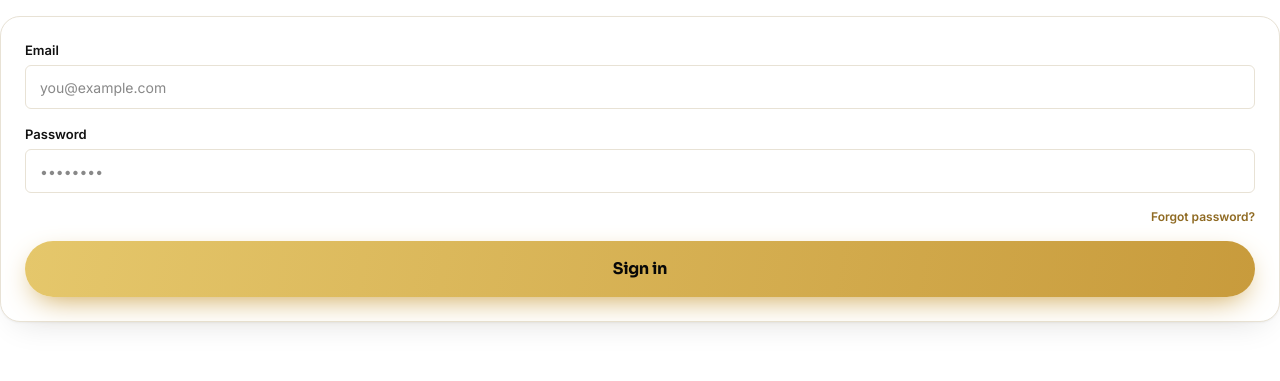
it: LoginForm › shows a generic message on invalid credentials
Type "jane@example.com" into the field labelled "Email".
click(640, 87); type("jane@example.com")  # box [25,65,1255,109]
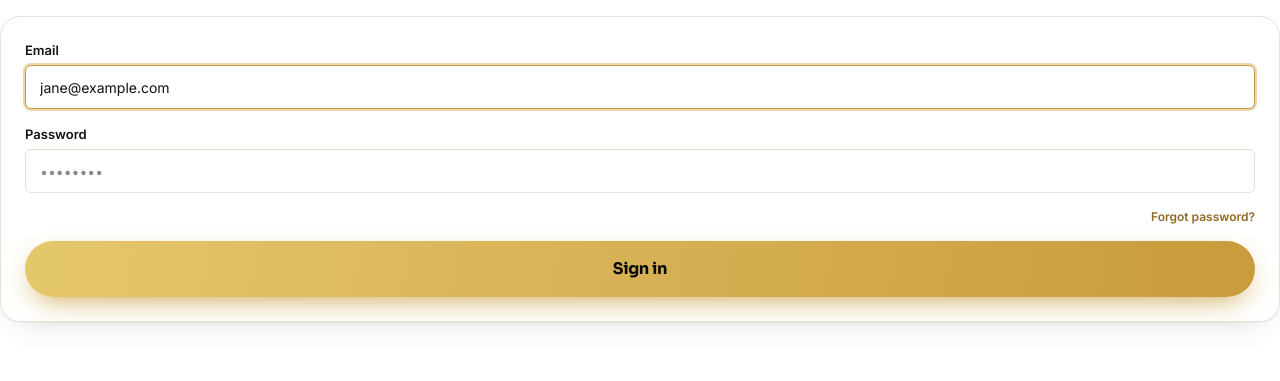
Type "wrong" into the password field labelled "Password".
click(640, 171); type("wrong")  # box [25,149,1255,193]
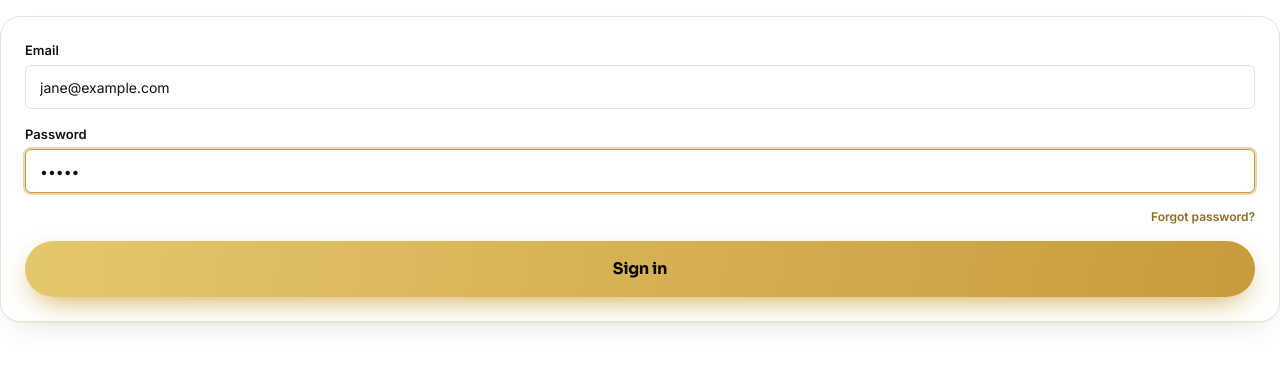
Click the button "Sign in".
click(640, 269)  # box [25,241,1255,297]
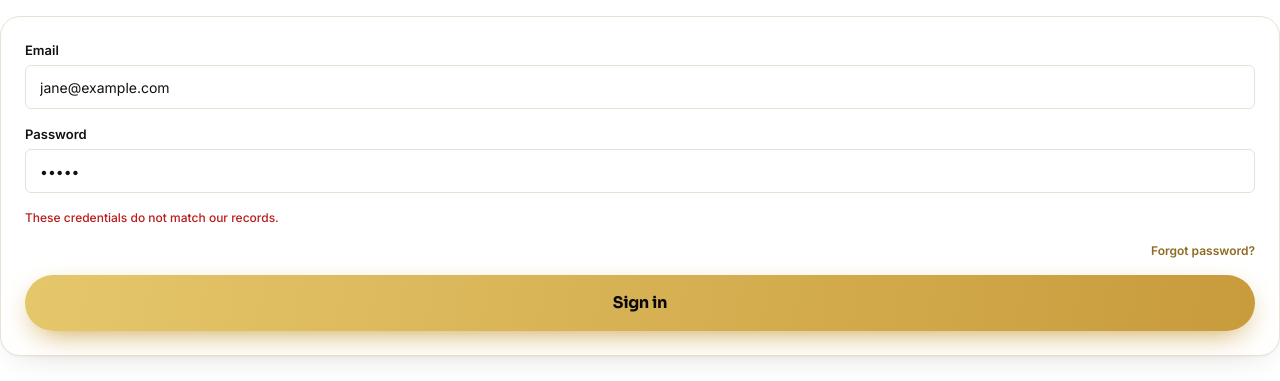
Now the message reads "These credentials do not match our records.", box [25,210,279,225]
